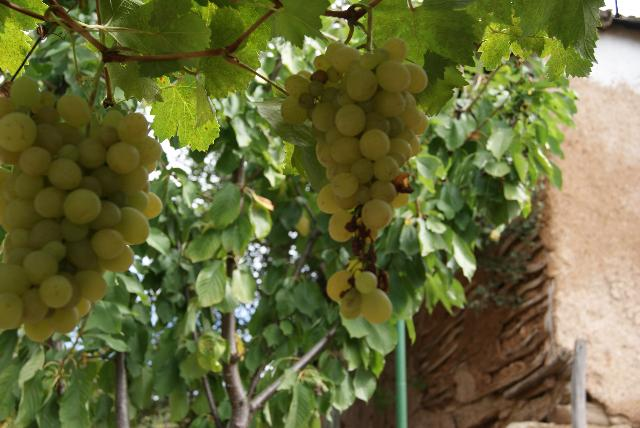grapes: (0, 76, 161, 342), (280, 38, 429, 325)
